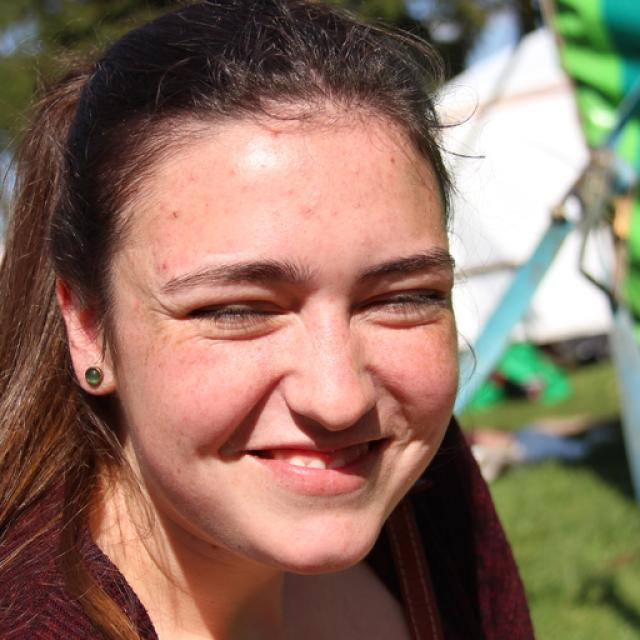Acne: (224, 152, 250, 184)
Spots: (158, 194, 183, 224), (293, 197, 317, 222), (148, 257, 170, 277)
